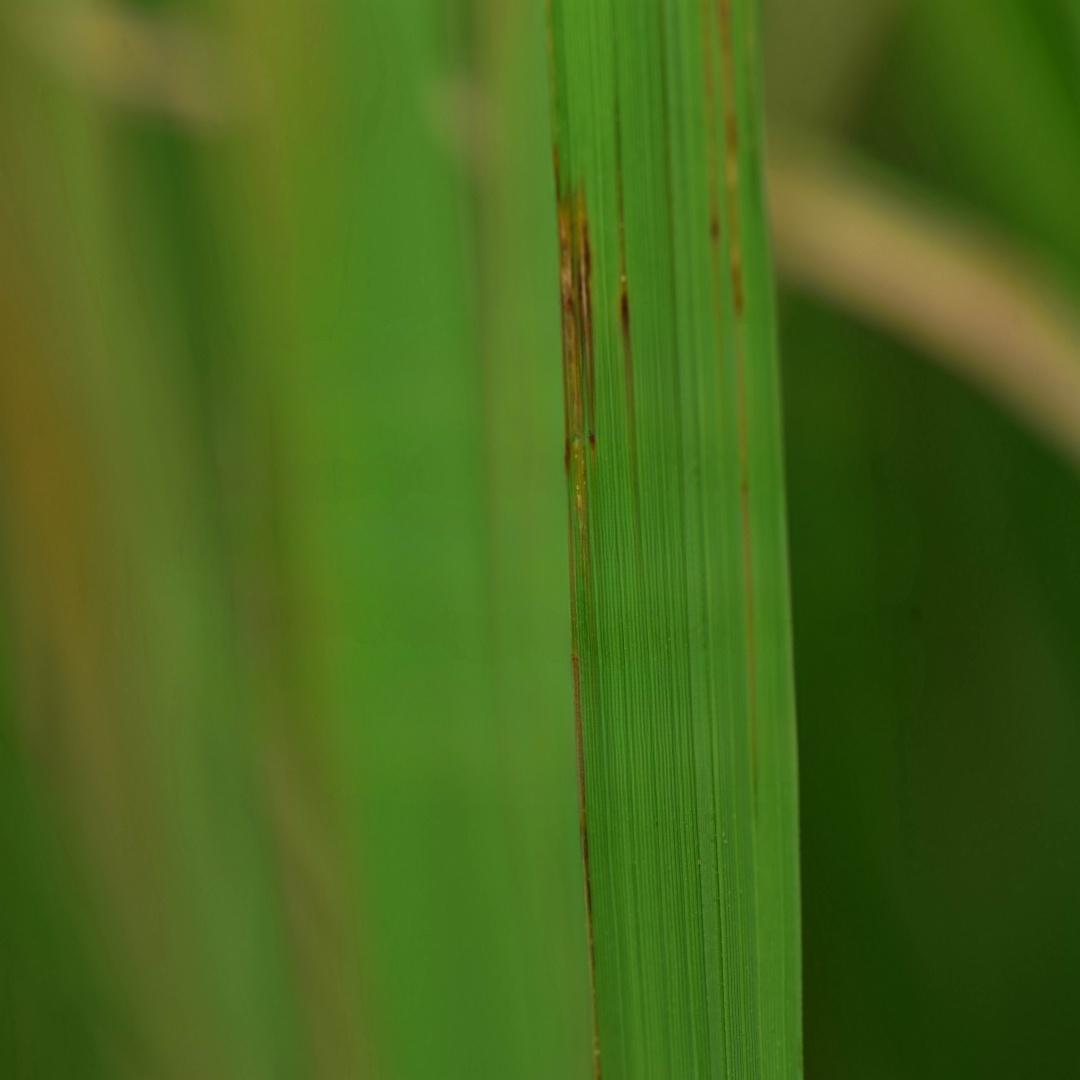BLS: (716, 1, 758, 829), (568, 499, 603, 1078), (554, 144, 597, 582), (703, 0, 726, 426), (614, 103, 638, 509)
LEAF: (547, 0, 801, 1079)
